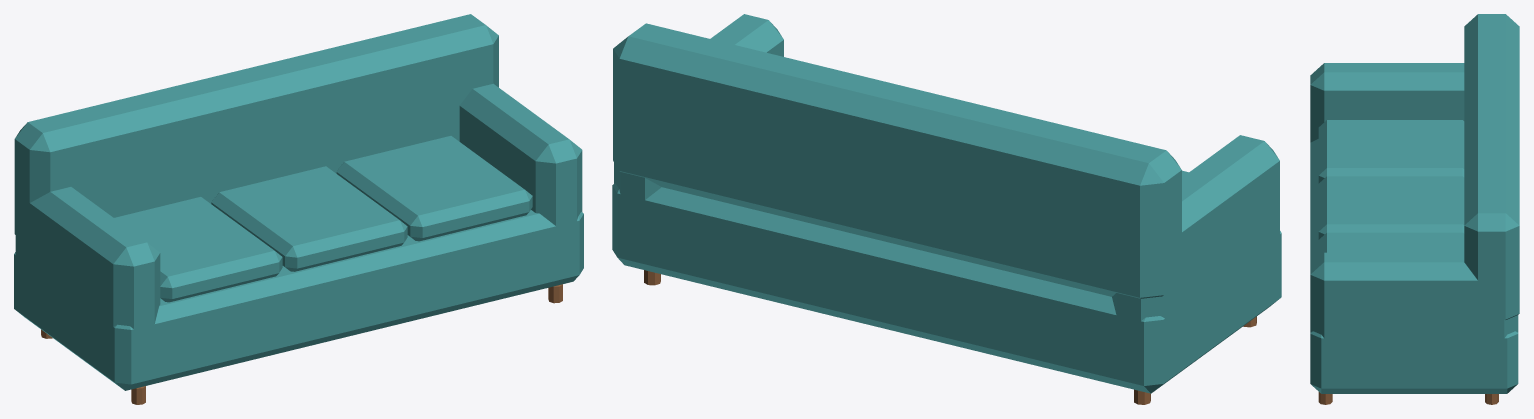
Rendered from sofa_waiting.glb.
The picture shows the model from 3 angles, left to right: view 1: azimuth 30°, elevation 25°; view 2: azimuth 150°, elevation 25°; view 3: azimuth 270°, elevation 25°; orthographic projection. The views are drawn at different scales.
Visible parts, largest first — view 1: sofa_waiting; view 2: sofa_waiting; view 3: sofa_waiting.
Part boxes in pixels (x1,y1,x2,y2): sofa_waiting: (14,14,583,404); sofa_waiting: (612,14,1281,404); sofa_waiting: (1310,14,1519,404).
Bounding box in the file's own units: 1.8 × 0.775 × 0.755.
1 material, 1 textured.
